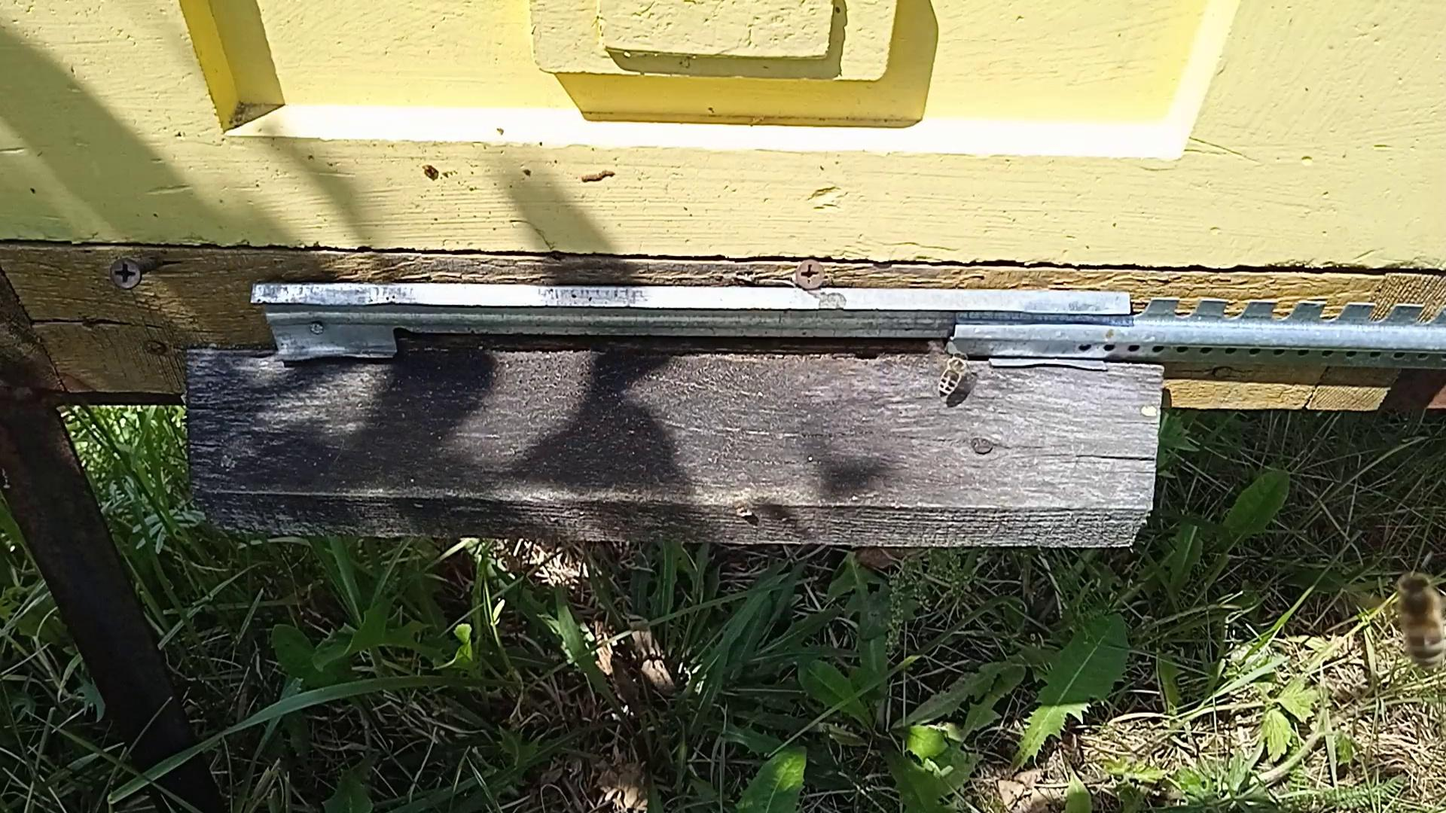worker-bee: (1397, 571, 1445, 673), (937, 352, 972, 399)
